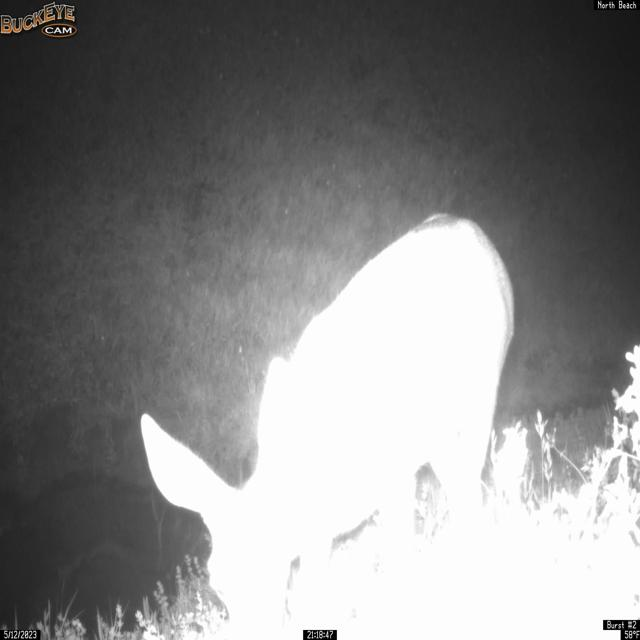deer: (140, 211, 516, 639)
